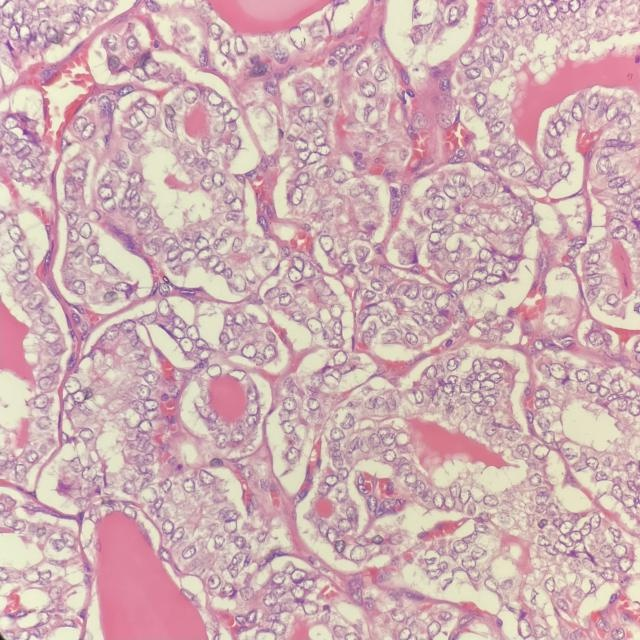TC: (229, 266, 255, 302), (315, 227, 342, 256), (349, 243, 378, 268), (284, 186, 310, 210), (318, 367, 346, 388), (303, 312, 325, 338), (431, 290, 453, 315), (400, 279, 424, 301), (141, 366, 163, 390), (111, 280, 137, 299), (274, 287, 295, 310), (261, 338, 281, 362), (156, 295, 176, 319), (119, 315, 140, 337), (244, 398, 263, 422), (326, 299, 344, 324), (159, 233, 177, 258), (77, 217, 94, 243), (297, 260, 319, 280), (331, 345, 353, 365), (280, 392, 300, 414), (205, 360, 224, 382), (227, 234, 245, 256), (239, 340, 257, 362), (134, 204, 153, 224), (195, 245, 213, 263), (403, 331, 420, 349), (142, 397, 161, 413), (305, 397, 321, 415)
